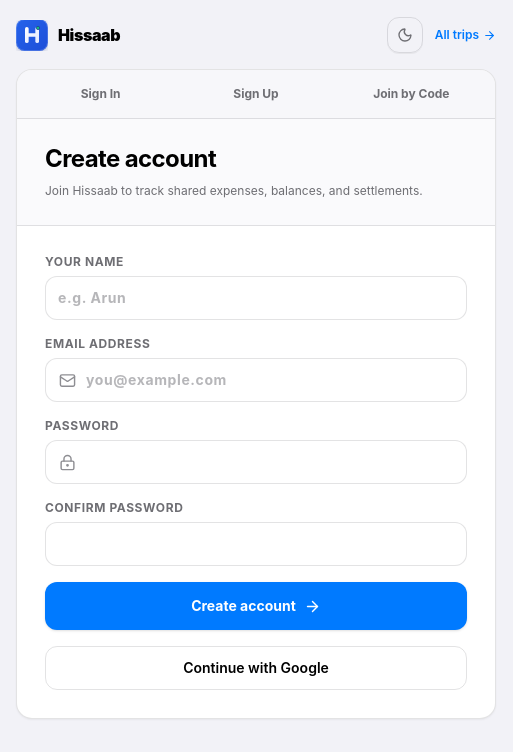
Test case: Cross-Field Form Validation & Message Dismissal › SignUpPage: typing valid email reactively clears email validation error
In the field labelled "Email Address": (256, 380) x1=45 y1=358 x2=467 y2=402, type "invalid-email"
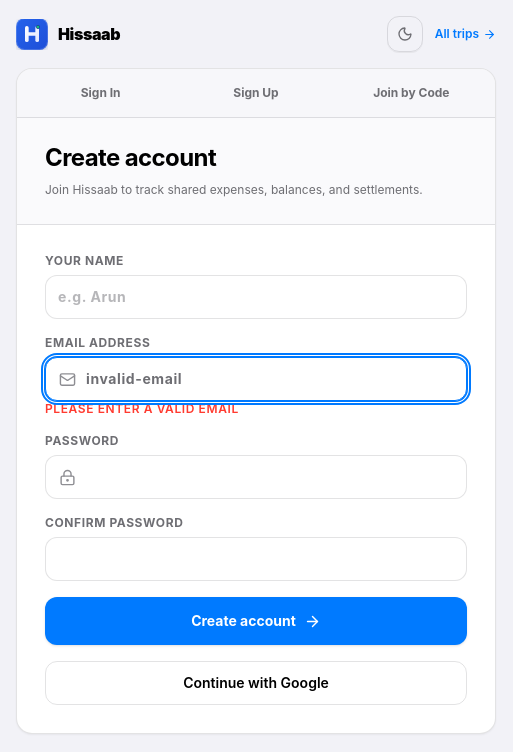
Click the button "Create account": (256, 621) x1=45 y1=597 x2=467 y2=645
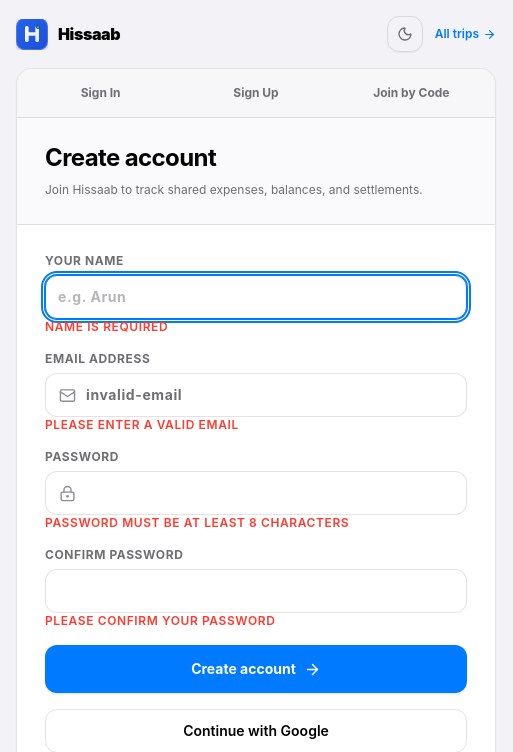
Expected: the text "Please enter a valid email" is shown, x1=45 y1=417 x2=239 y2=432
Replace the text in the field labelled "Email Address Please enter a valid email" with "valid@test.com": (256, 395) x1=45 y1=373 x2=467 y2=417
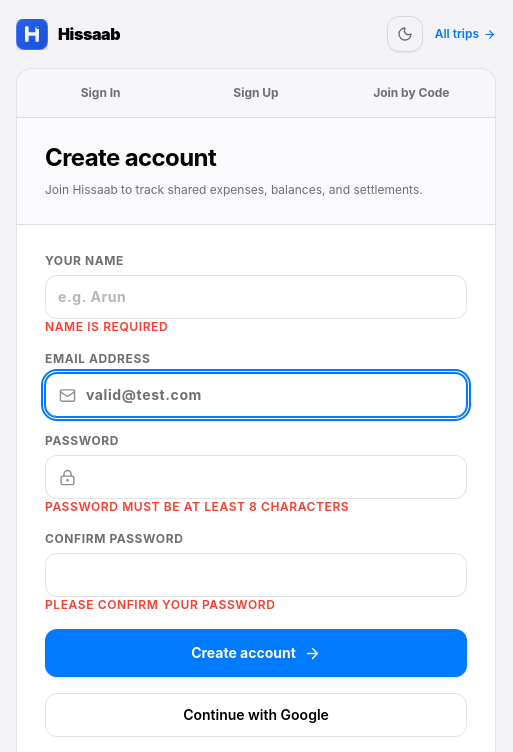
Expected: the text "Please enter a valid email" is gone
